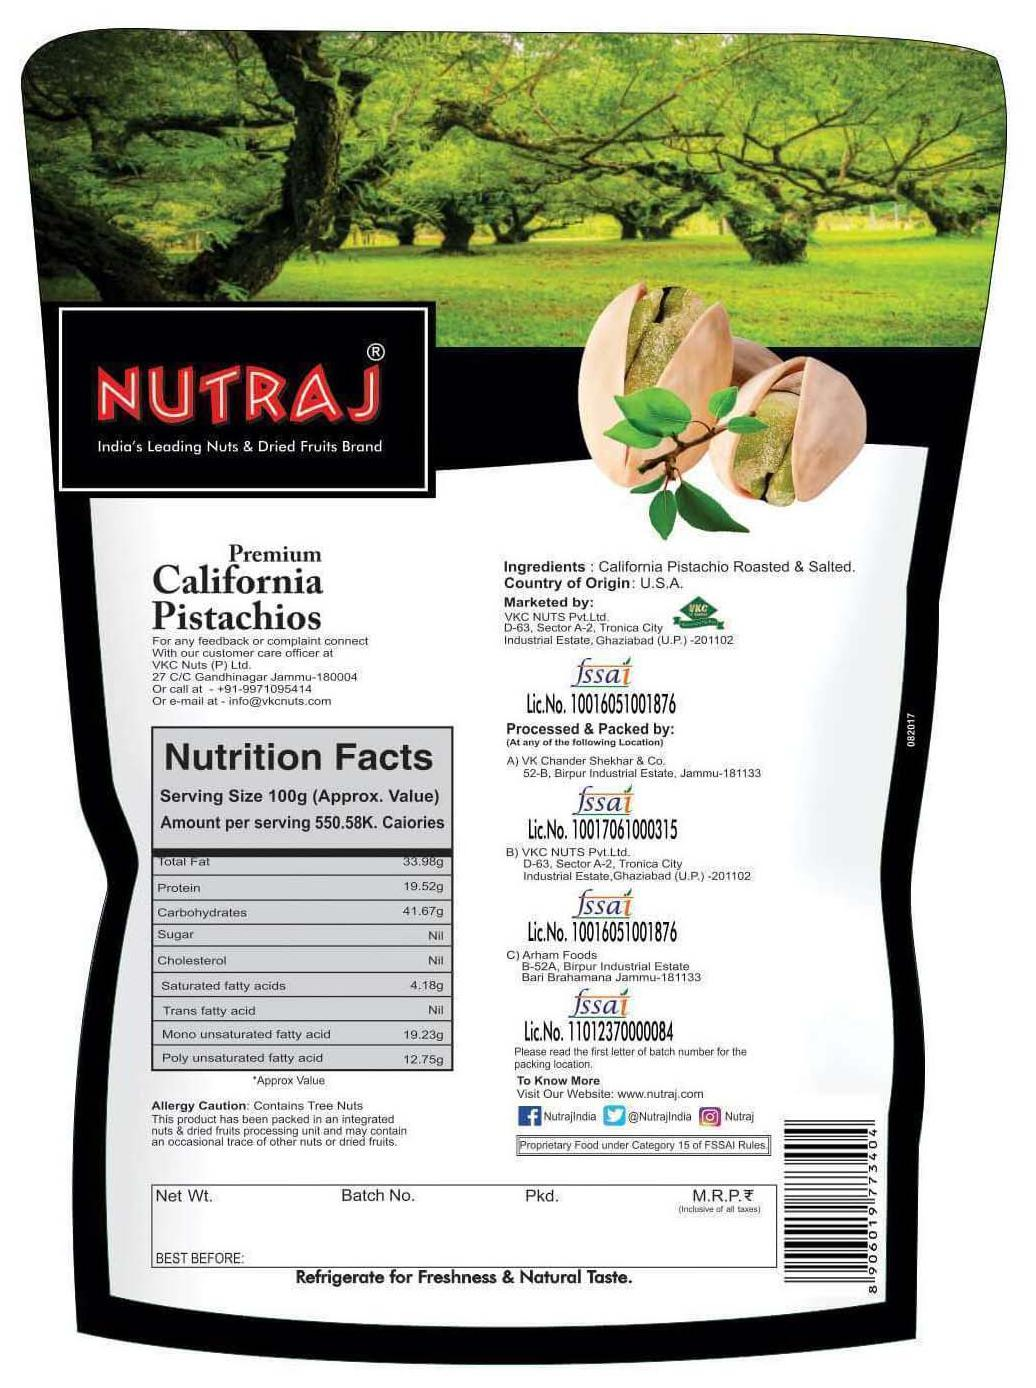fssai: (570, 656, 634, 687), (568, 987, 629, 1019), (571, 889, 634, 919), (572, 785, 634, 816)
